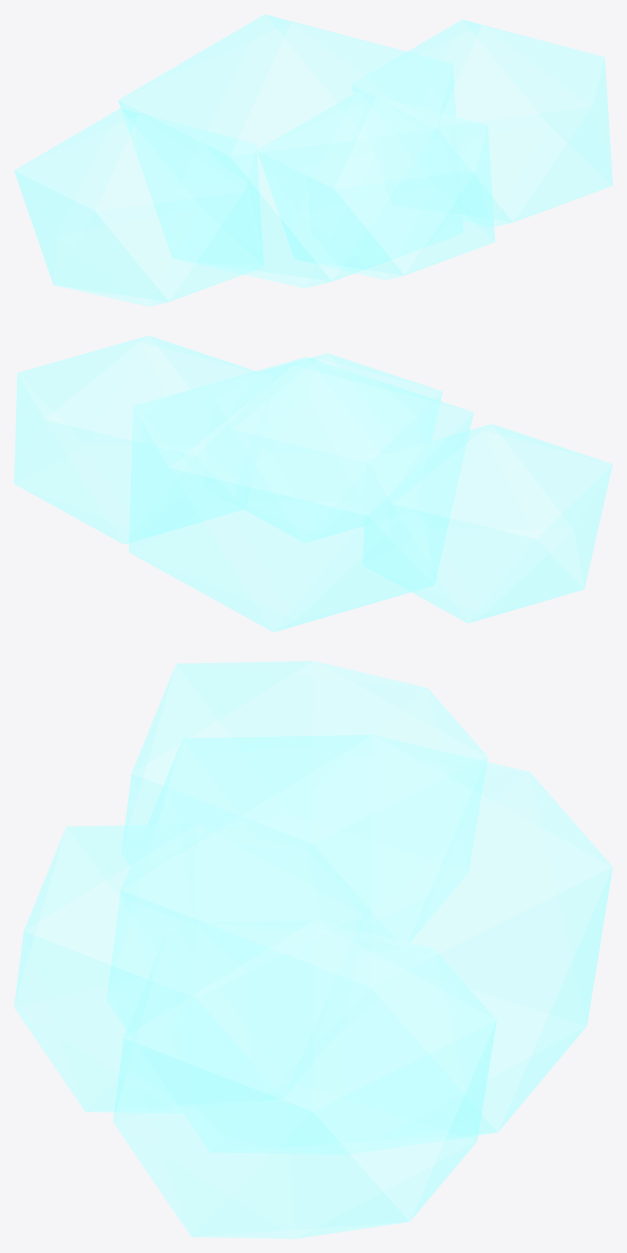
The model's file is GH_Dressing_Cloud.fbx.
The picture shows the model from 3 angles, top to bottom: view 1: azimuth 30°, elevation 25°; view 2: azimuth 150°, elevation 25°; view 3: azimuth 270°, elevation 25°; orthographic projection. The views are drawn at different scales.
Visible parts, largest first — view 1: SM_Dressing_Cloud; view 2: SM_Dressing_Cloud; view 3: SM_Dressing_Cloud.
Boxes of the visible parts, <box> form: SM_Dressing_Cloud: <box>14,14,612,306</box>; SM_Dressing_Cloud: <box>14,335,612,632</box>; SM_Dressing_Cloud: <box>14,661,612,1238</box>.
Size of the model in its own units: 1.96 by 0.8732 by 1.14.
